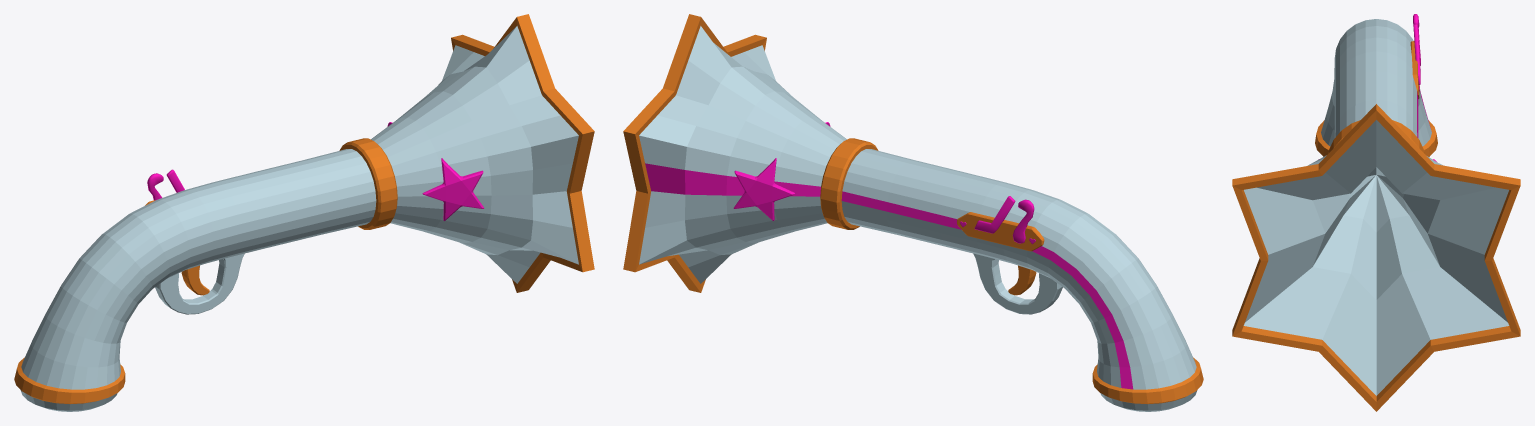
Rendered from shotgun.glb.
3 renders of one model, left to right at view 1: azimuth 30°, elevation 25°; view 2: azimuth 150°, elevation 25°; view 3: azimuth 270°, elevation 25°, orthographic. The views are drawn at different scales.
Visible parts, largest first — view 1: corpo; view 2: corpo; view 3: corpo.
Boxes of the visible parts, bbox=[...] form: corpo: bbox=[14, 14, 594, 411]; corpo: bbox=[623, 14, 1203, 411]; corpo: bbox=[1232, 14, 1520, 411].
Bounding box in the file's own units: 3.81 × 1.99 × 1.72.
